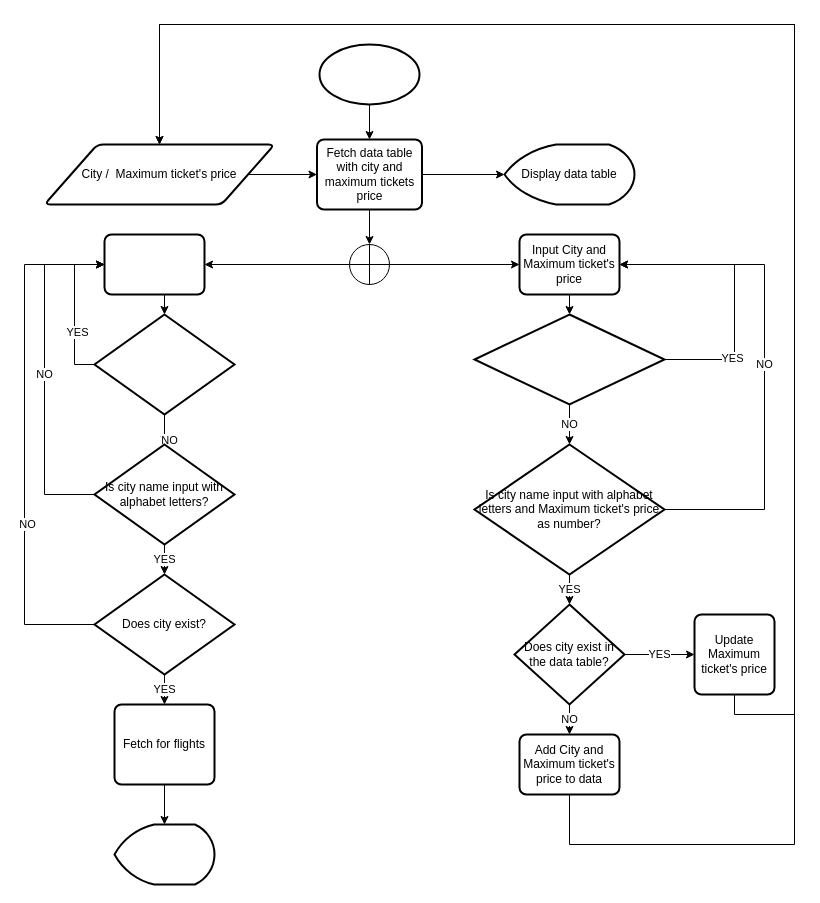
Image size: 820x903. Some labels were removed from this diagram. The shapes that lost their labels are listed below. From the top down, each one's centre as x and y in pixels, then its label:
At (369,74): "START".
At (154,264): "Input city to fly from".
At (164,364): "Is departure city name input field empty?".
At (569,359): "Are City and Maximum ticket's price fields empty?".
At (164,854): "Display found flights".
